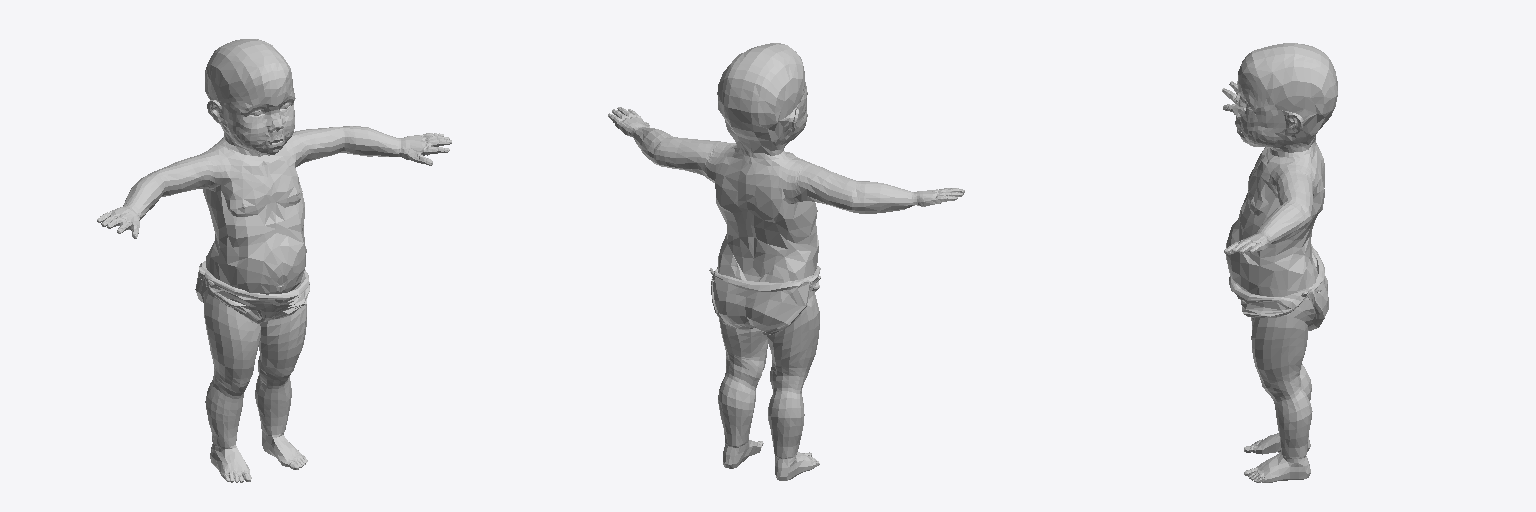
Rendered from baby_detailed.obj.
3 renders of one model, left to right at view 1: azimuth 30°, elevation 25°; view 2: azimuth 150°, elevation 25°; view 3: azimuth 270°, elevation 25°, orthographic.
Bounding box in the file's own units: 130 × 149 × 37.54.